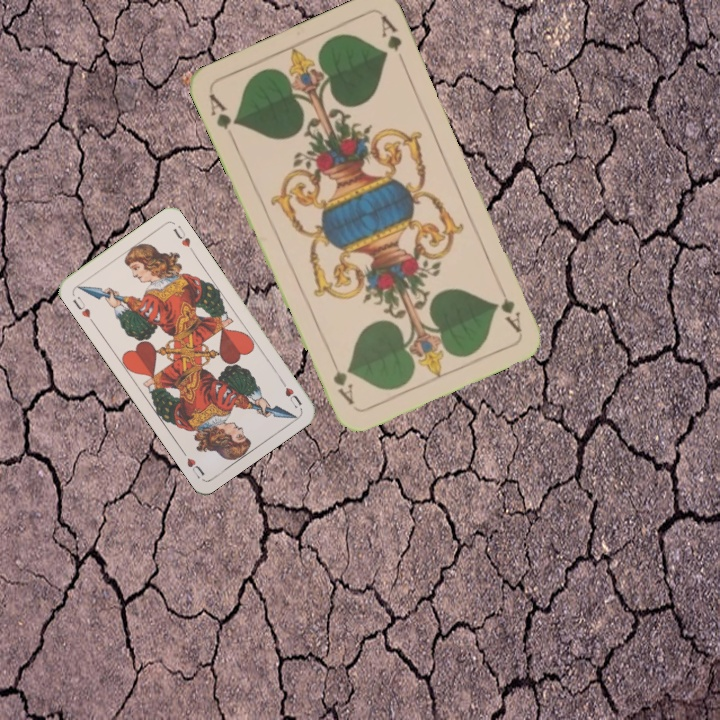GA: (205, 89, 241, 145), (492, 278, 524, 336)
HU: (276, 375, 304, 410), (69, 292, 93, 320)
